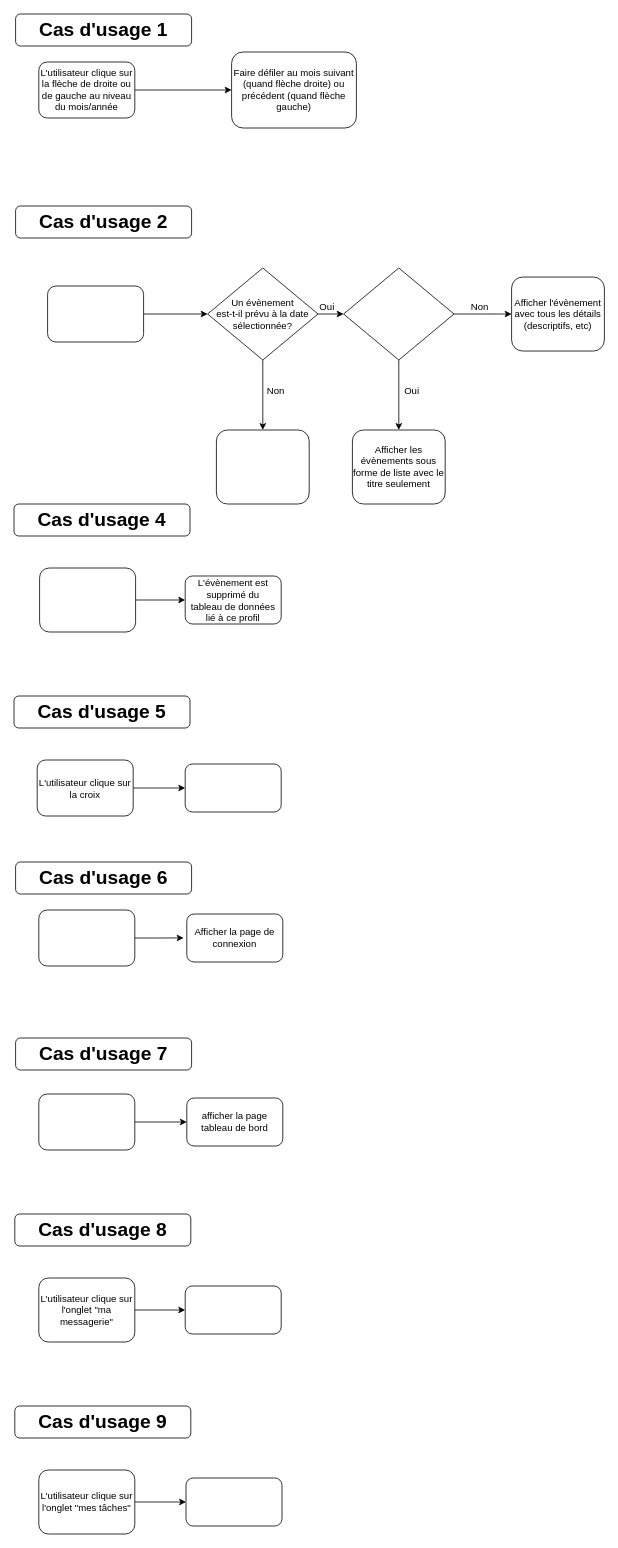
This 618x1548 diagram has some shape labels left out. The shapes that lost their labels are listed below. From the top down, each one's centre as x and y in pixels, then its label:
point (95, 313): L'utilisateur clique sur une date
point (398, 313): Est-ce qu'il y a un ou plusieurs évènement(s) ?
point (262, 466): Afficher "aucun évènement de prévu à cette date
point (87, 599): L'utilisateur clique sur "supprimer cet évènement"
point (232, 787): Afficher un bloc vide type modal au premier plan
point (86, 937): L'utilisateur clique sur "se déconnecter"
point (86, 1121): L'utilisateur clique sur le logo "learn@home"
point (232, 1309): Afficher l'interface de tchat
point (233, 1501): Afficher la page de gestion des tâches
